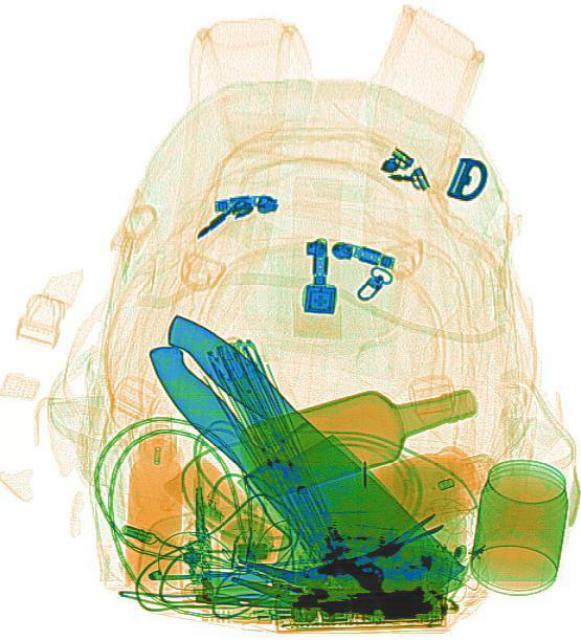Knife: (119, 300, 462, 638), (136, 298, 455, 638)
